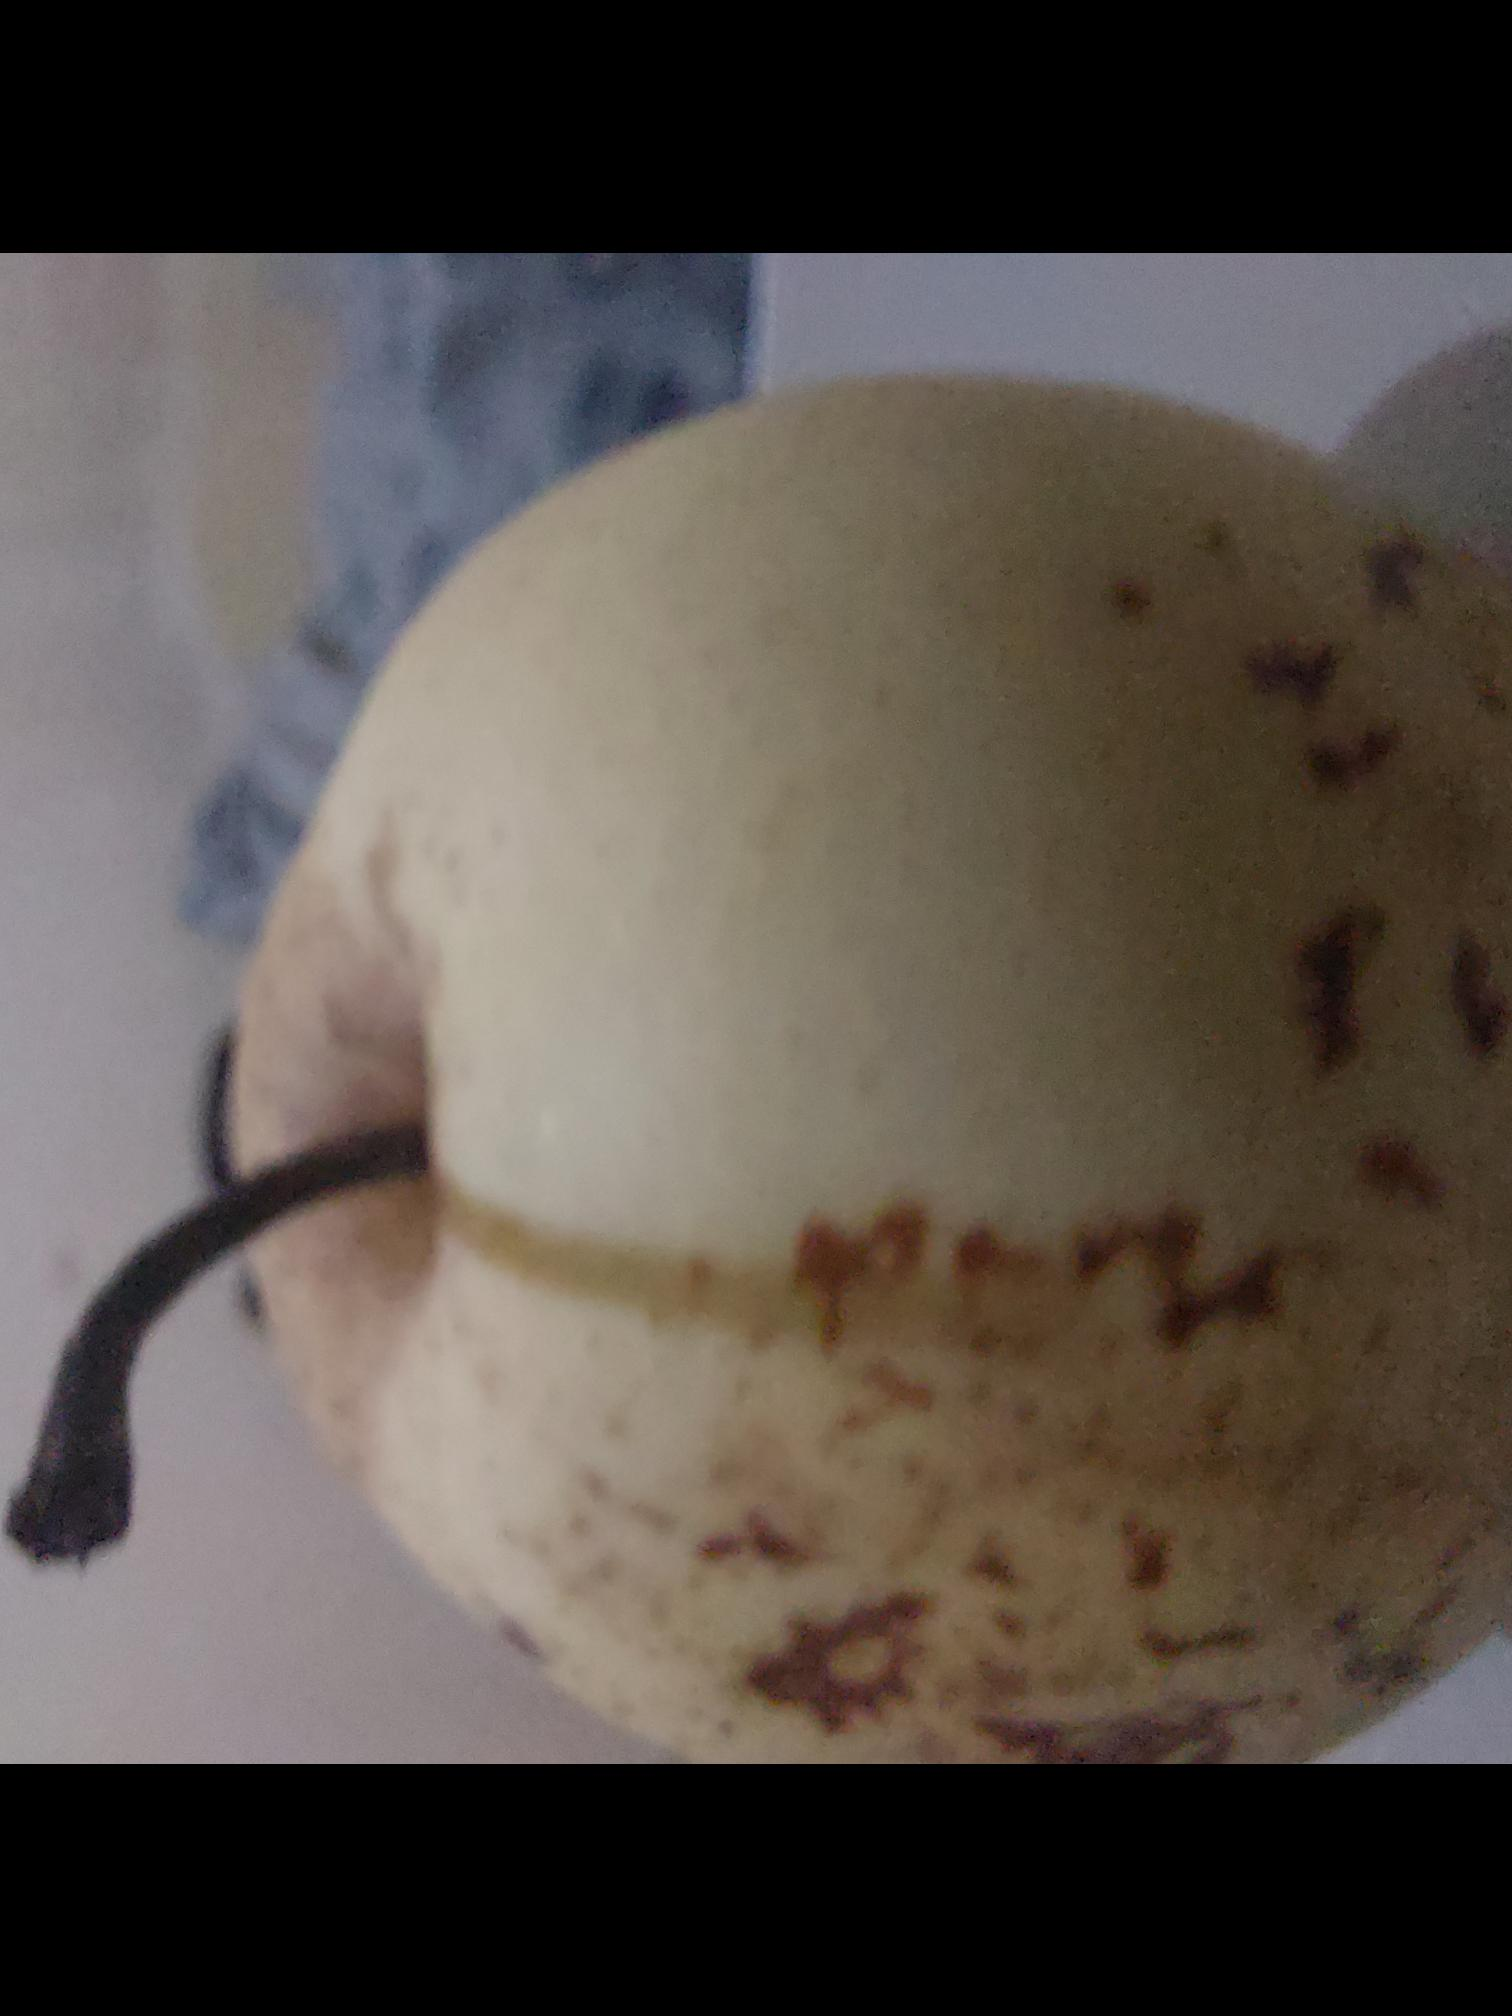Bad Pear: (10, 364, 1512, 1748)
